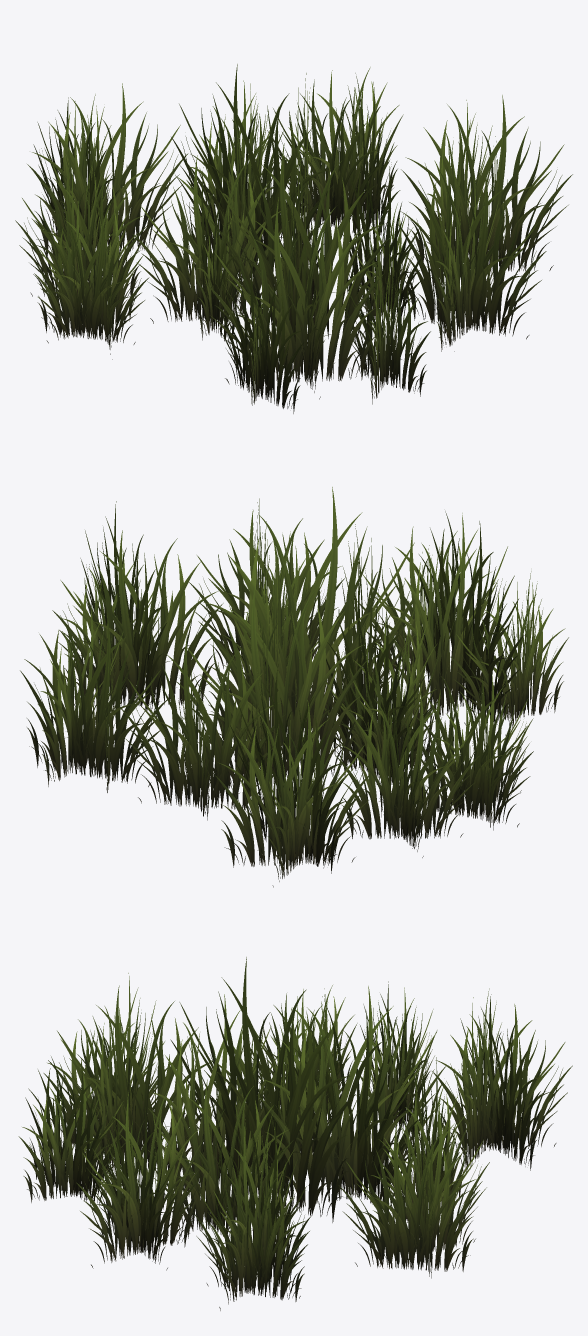
The model's file is Grass_03.fbx.
The picture shows the model from 3 angles, top to bottom: view 1: azimuth 30°, elevation 25°; view 2: azimuth 150°, elevation 25°; view 3: azimuth 270°, elevation 25°; orthographic projection. The views are drawn at different scales.
Parts seen in each view (by area): view 1: Grass_03; view 2: Grass_03; view 3: Grass_03.
Boxes of the visible parts, left/top/right/bottom form: Grass_03: left=15, top=64, right=572, bottom=413; Grass_03: left=20, top=487, right=568, bottom=887; Grass_03: left=18, top=957, right=572, bottom=1310.
Bounding box in the file's own units: 3.02 × 3.04 × 1.47.
